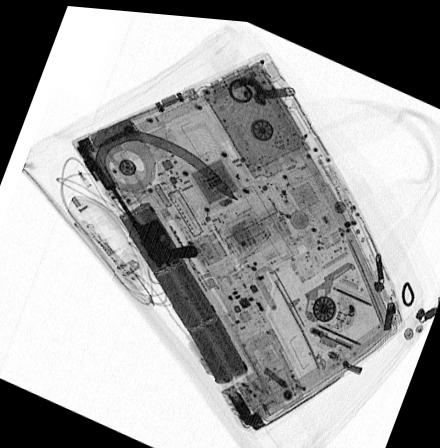Gun: (85, 154, 197, 269)
